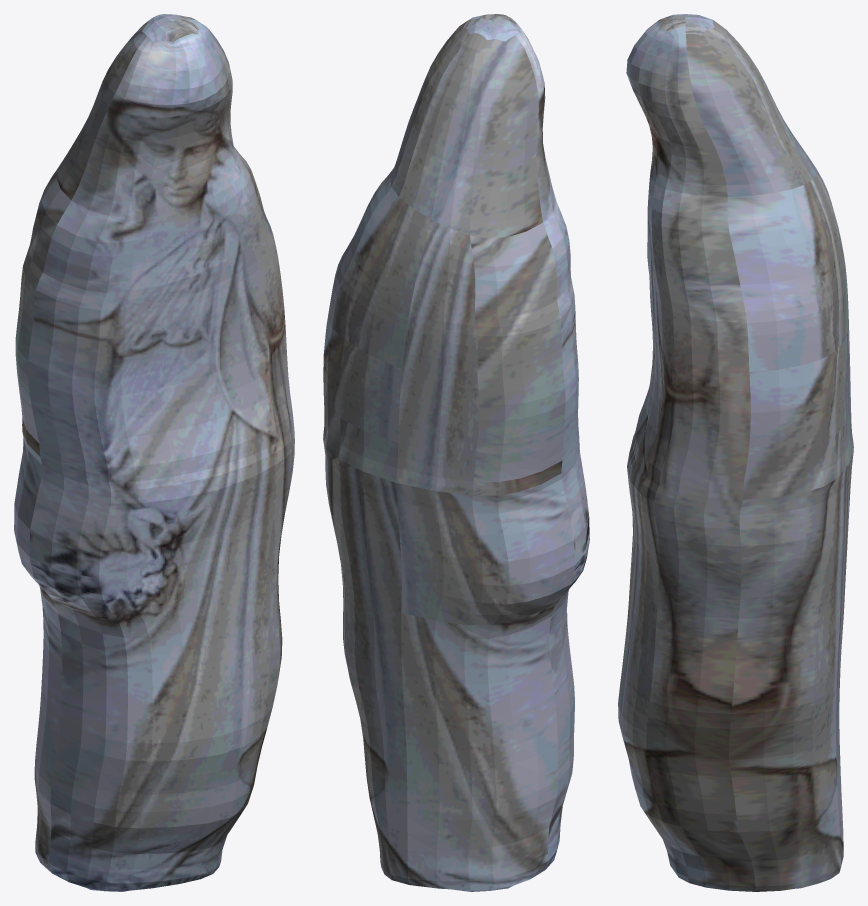
Rendered from Virgen.fbx.
3 renders of one model, left to right at view 1: azimuth 30°, elevation 25°; view 2: azimuth 150°, elevation 25°; view 3: azimuth 270°, elevation 25°, orthographic. The views are drawn at different scales.
Parts seen in each view (by area): view 1: Virgen; view 2: Virgen; view 3: Virgen.
Part boxes in pixels (box(x1,y1,x2,y2)): Virgen: box(14, 14, 294, 891); Virgen: box(323, 14, 589, 891); Virgen: box(618, 14, 853, 891).
Size of the model in its own units: 0.5106 by 1.69 by 0.4263.
1 material, 1 textured.
